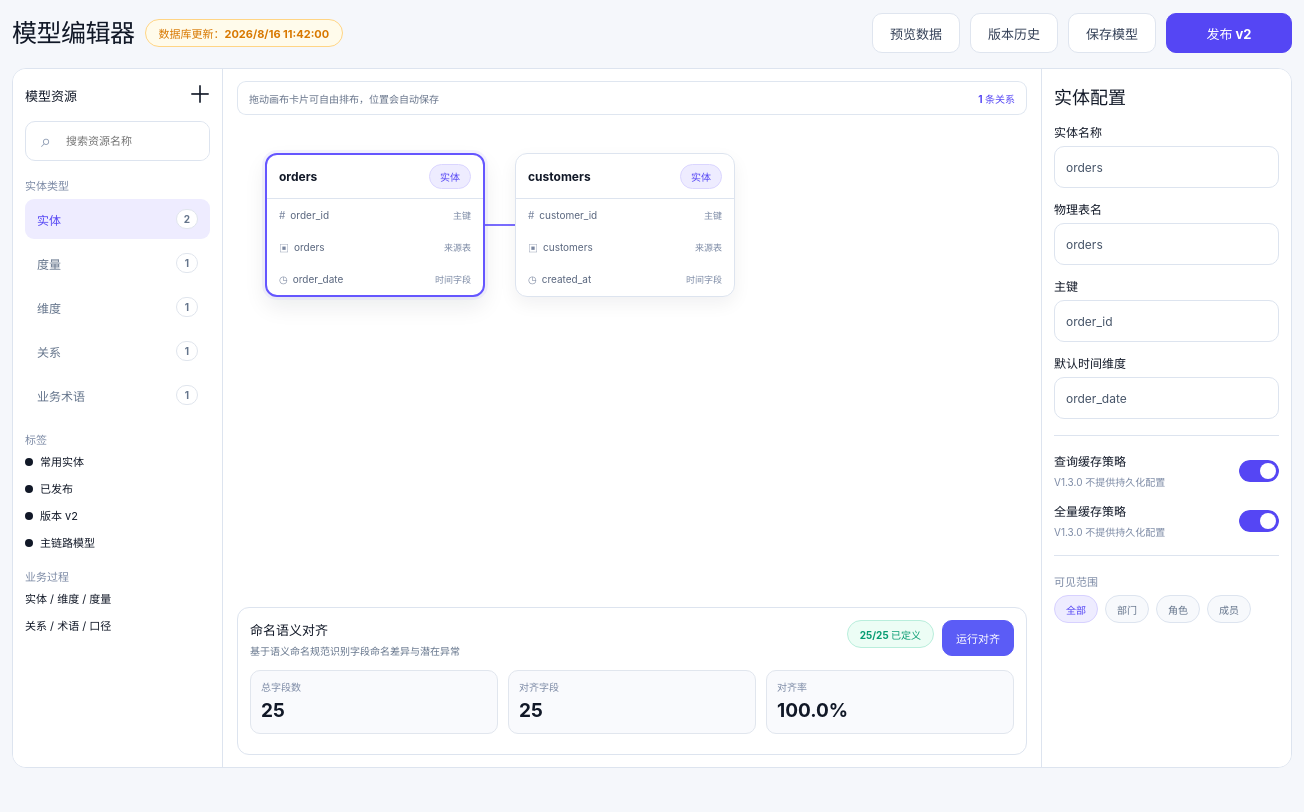
Test: 语义模型高保真界面 › 在关系画布选择真实资源并通过现有 API 保存配置
Expected: the heading "模型编辑器" is shown, [12,12,134,54]
Expected: the heading "实体配置" is shown, [1054,87,1126,108]
In the field named "搜索模型资源": (138, 141) [66,122,209,160], type "orders"
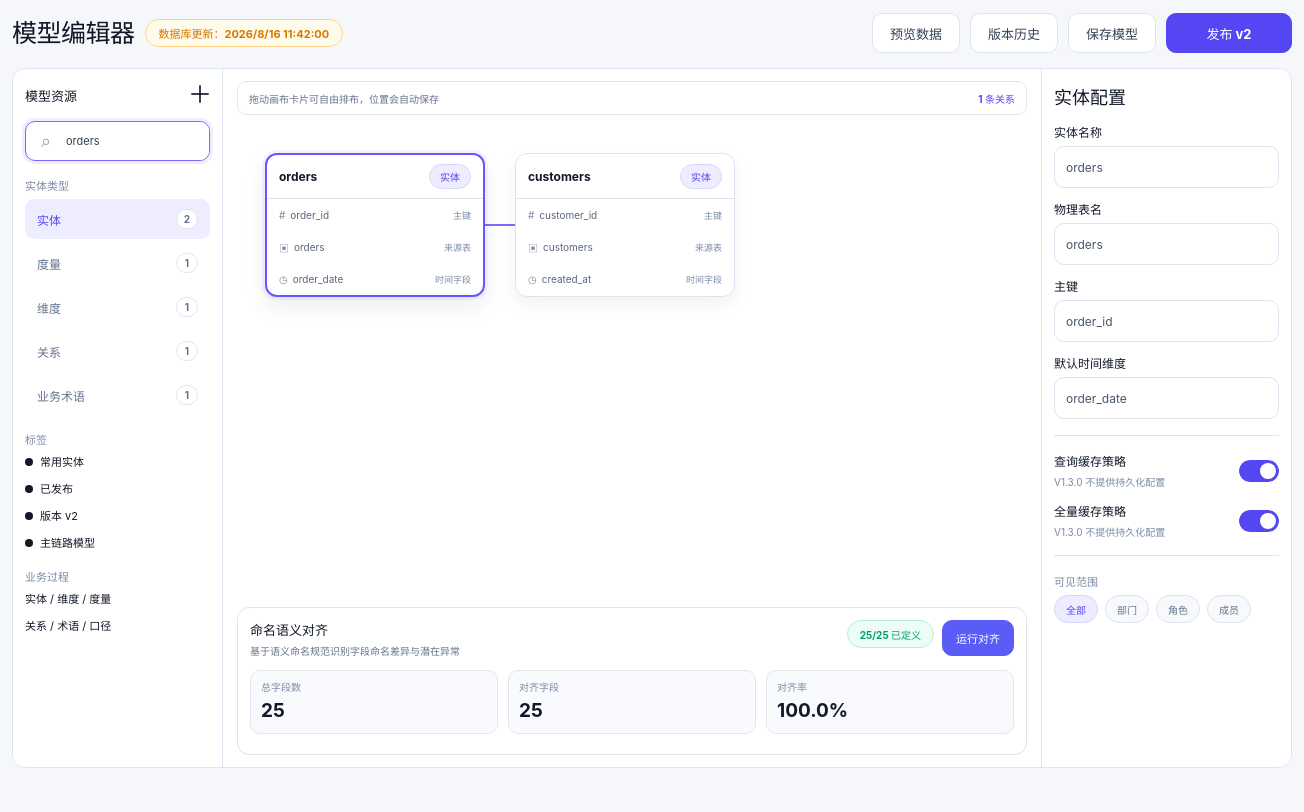
Replace the text in the field labelled "实体名称" with "sales_orders": (1166, 167) [1054,146,1279,188]
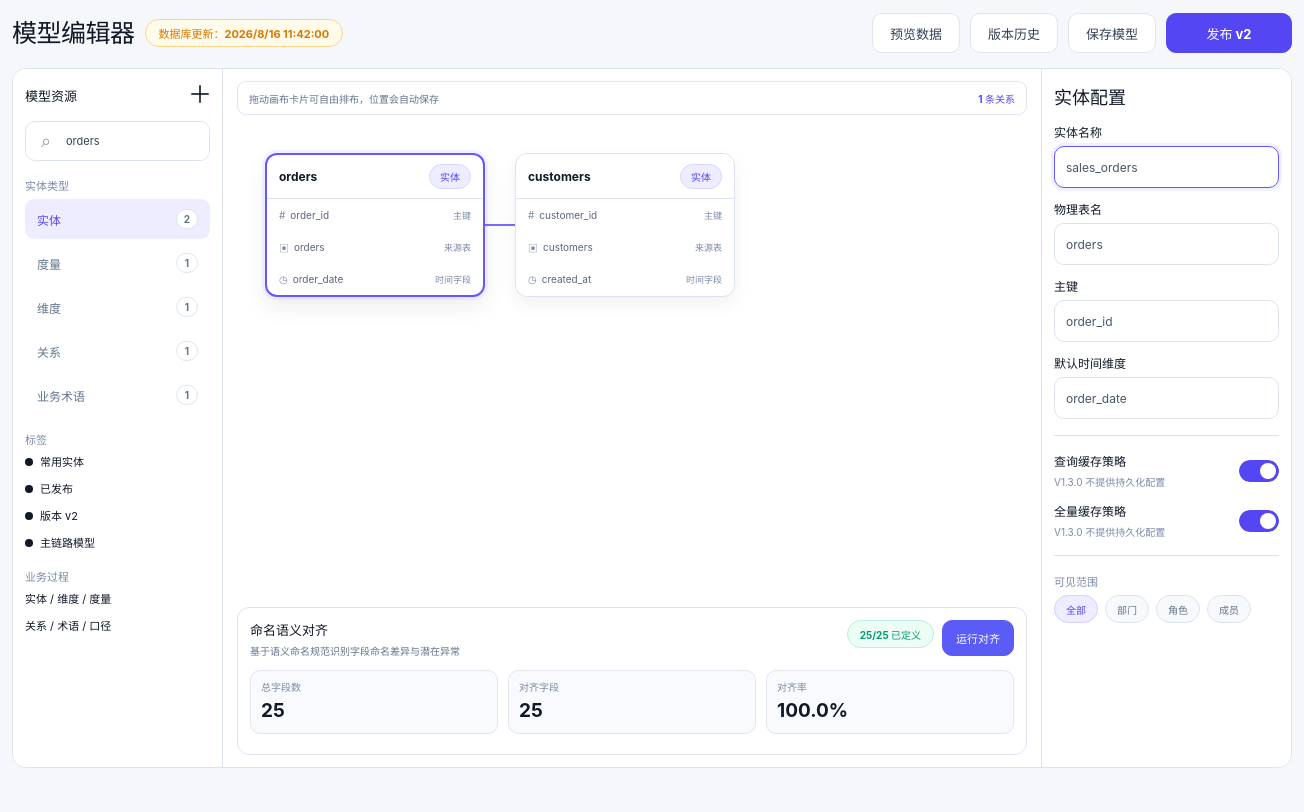
Click the button with test id "save-model": (1112, 33) [1068,13,1156,53]
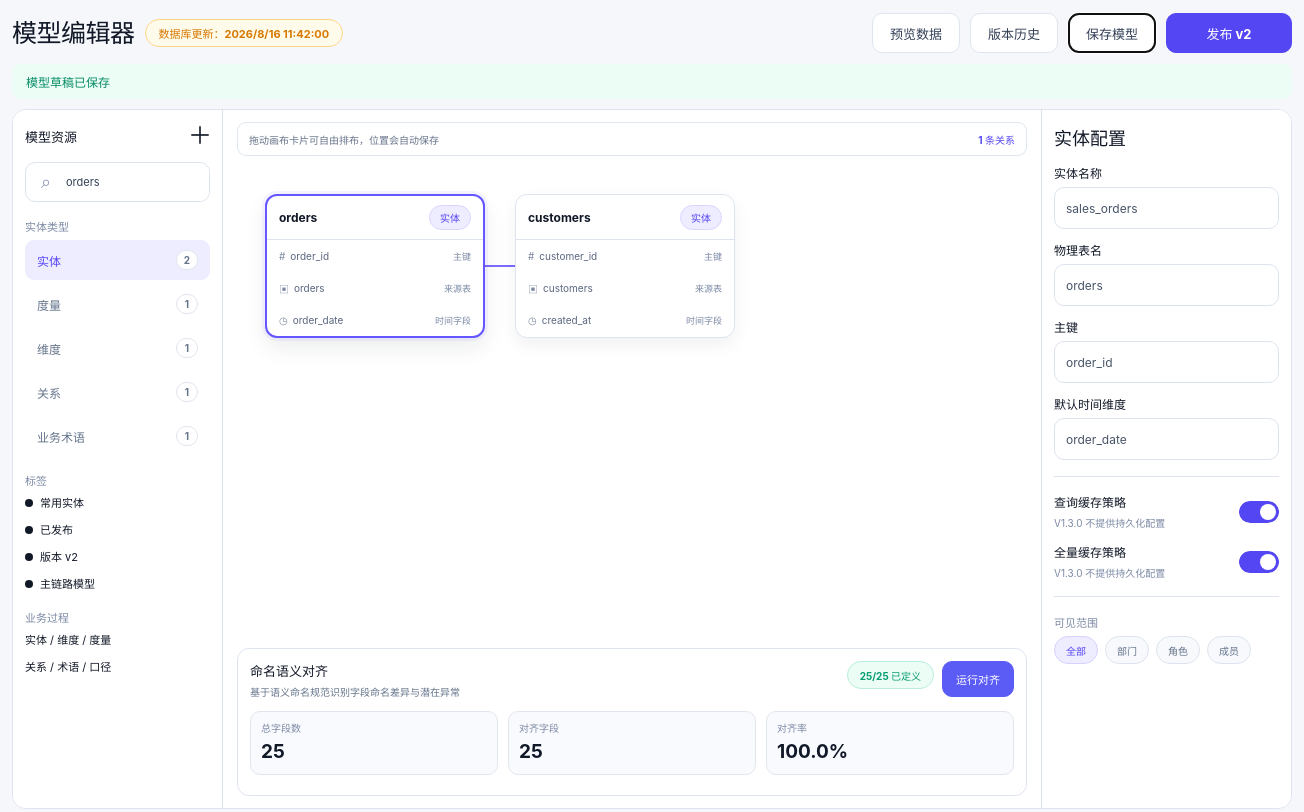
Now the text "模型草稿已保存" is shown, box [12,64,1292,99]
